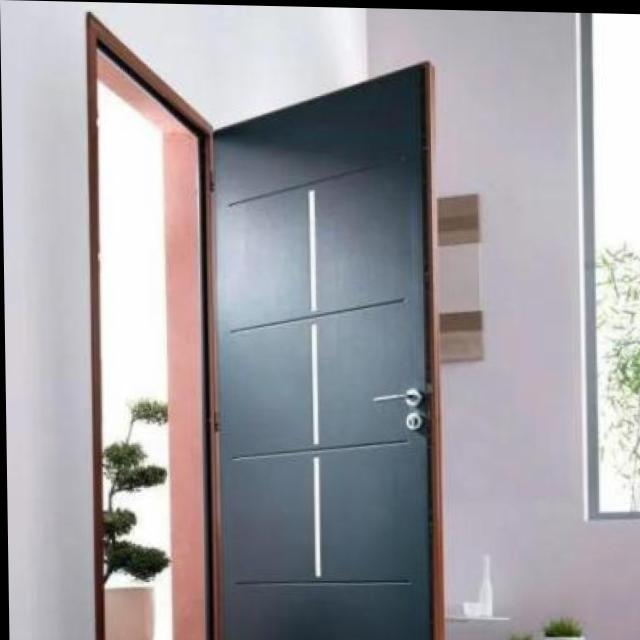door_handle: (352, 383, 420, 412)
